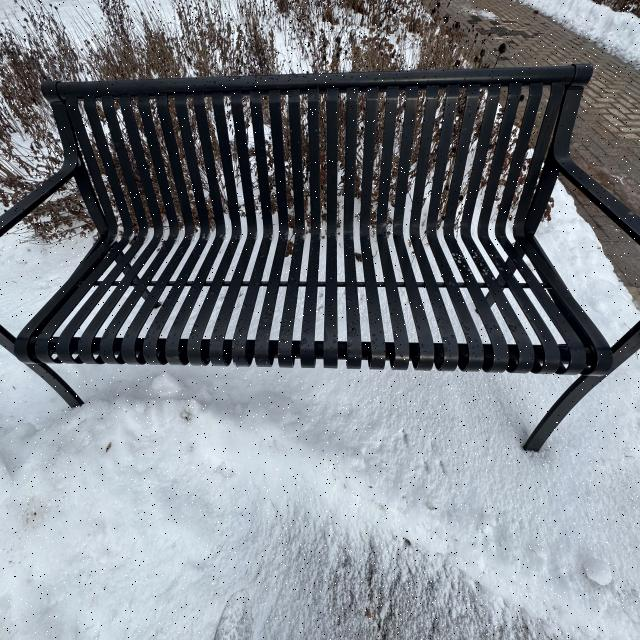Bench: (0, 51, 640, 433)
